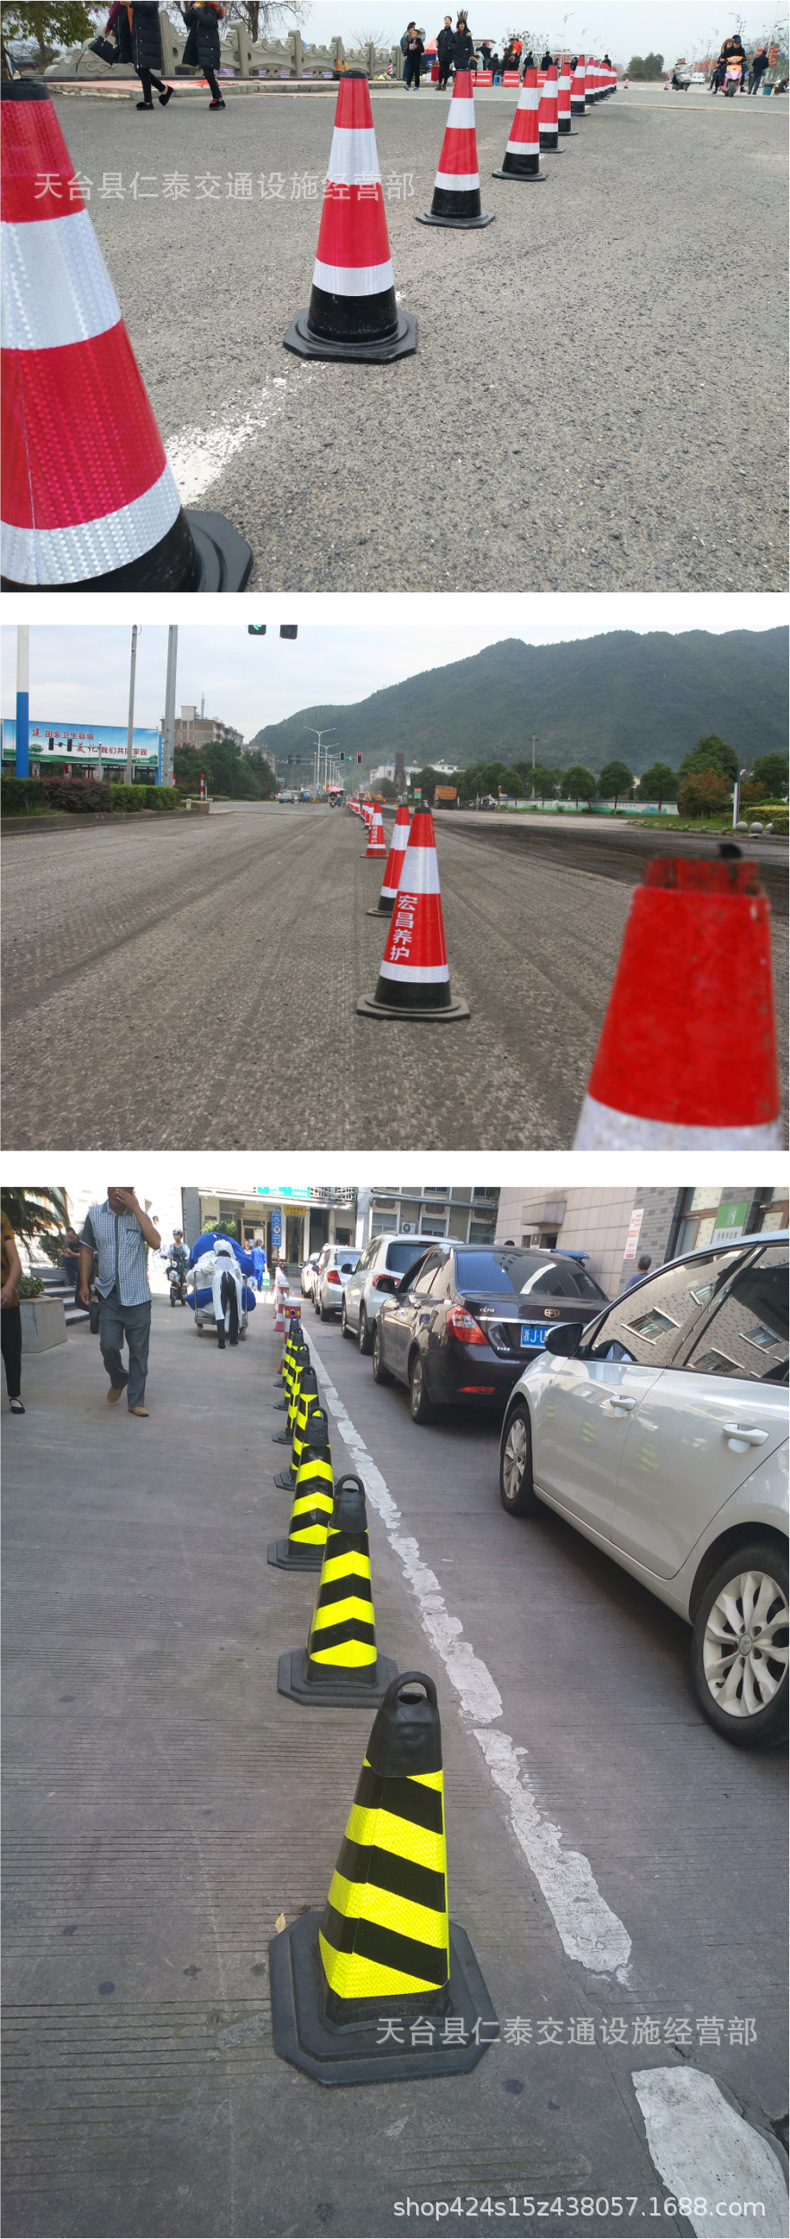traffic_cone: (1, 73, 279, 581), (239, 19, 429, 396), (333, 763, 496, 1037), (379, 56, 503, 223), (509, 53, 559, 181)
